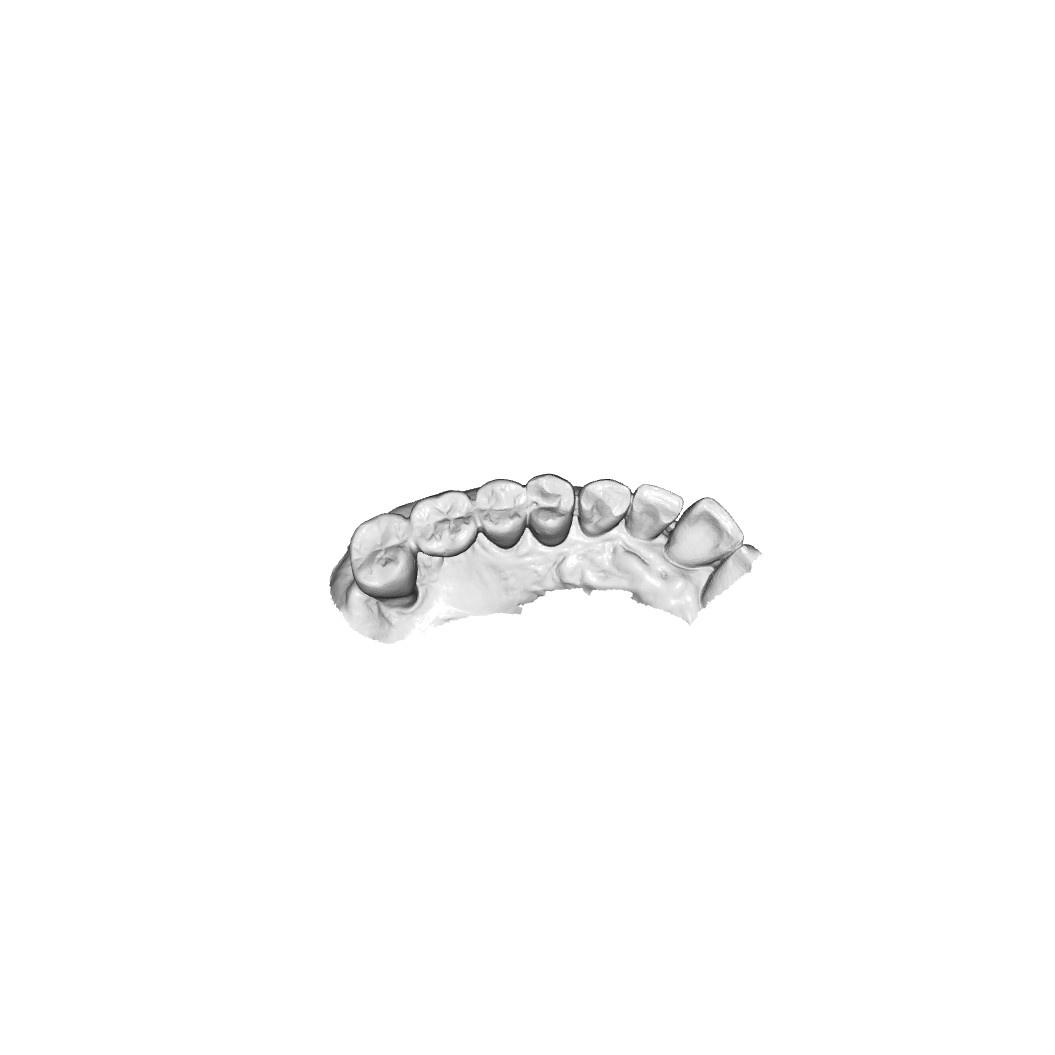canine: (577, 473, 631, 538)
incisor: (662, 493, 745, 569), (624, 483, 685, 544)
molar: (345, 510, 419, 602), (409, 488, 483, 556)
premolar: (523, 471, 576, 550), (473, 476, 529, 550)
